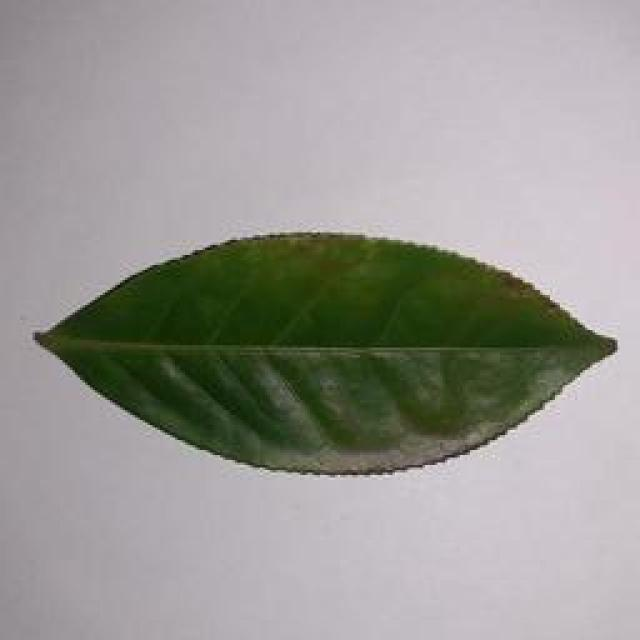Red Leaf Spot: (28, 224, 629, 472)
